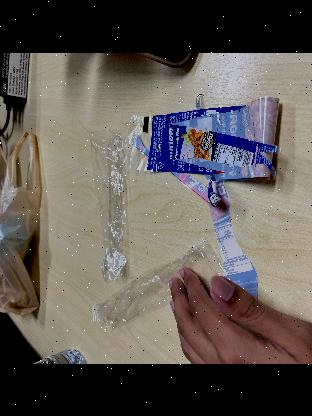Others: (133, 92, 289, 198), (100, 233, 216, 341), (85, 118, 135, 286)
